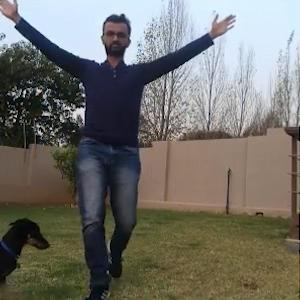takeoff: (0, 0, 238, 276)
